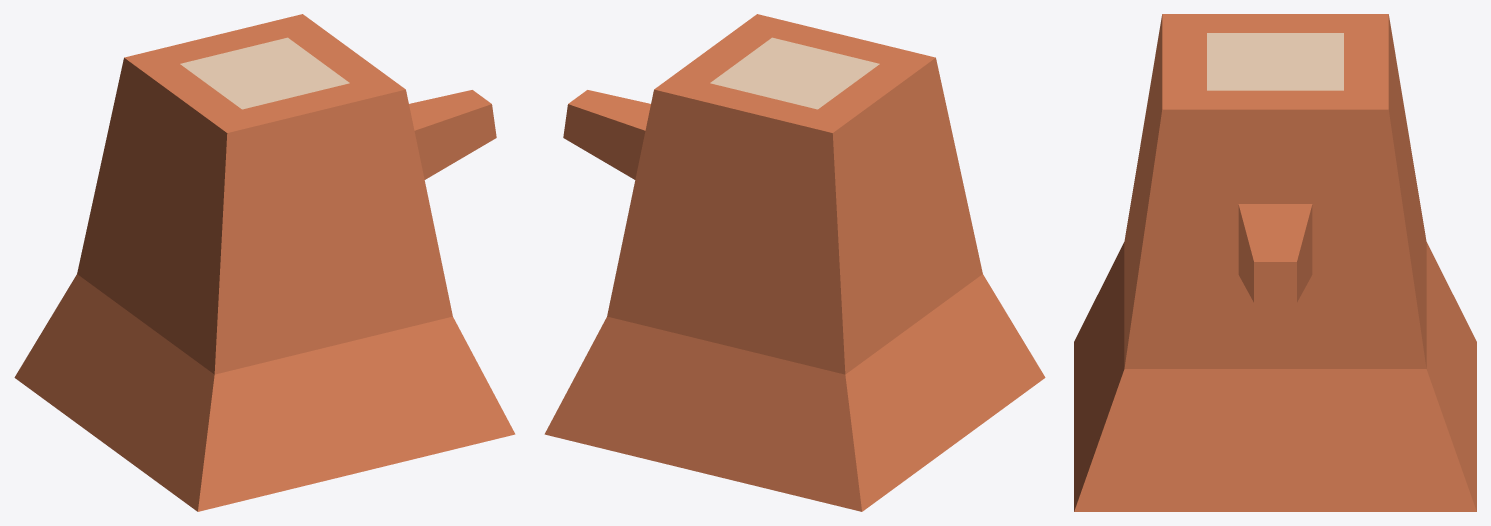
File: stump-square.glb
3 views of the same model, side by side, from view 1: azimuth 30°, elevation 25°; view 2: azimuth 150°, elevation 25°; view 3: azimuth 270°, elevation 25° (orthographic). The views are drawn at different scales.
Parts seen in each view (by area): view 1: stump_square; view 2: stump_square; view 3: stump_square.
Boxes of the visible parts, x1,y1,x2,y2 form: stump_square: (14, 14, 515, 511); stump_square: (544, 14, 1045, 511); stump_square: (1074, 14, 1476, 511).
Bounding box in the file's own units: 0.3596 × 0.3 × 0.3.
